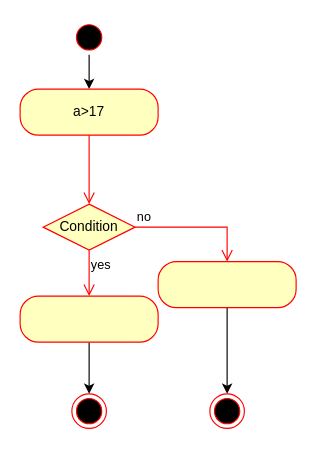
This 316x449 diagram has some shape labels left out. Each missing label, with the centre of its shape:
afficher " vous êtes majeur ": (88,318)
afficher " vous êtes mineur ": (226,284)
